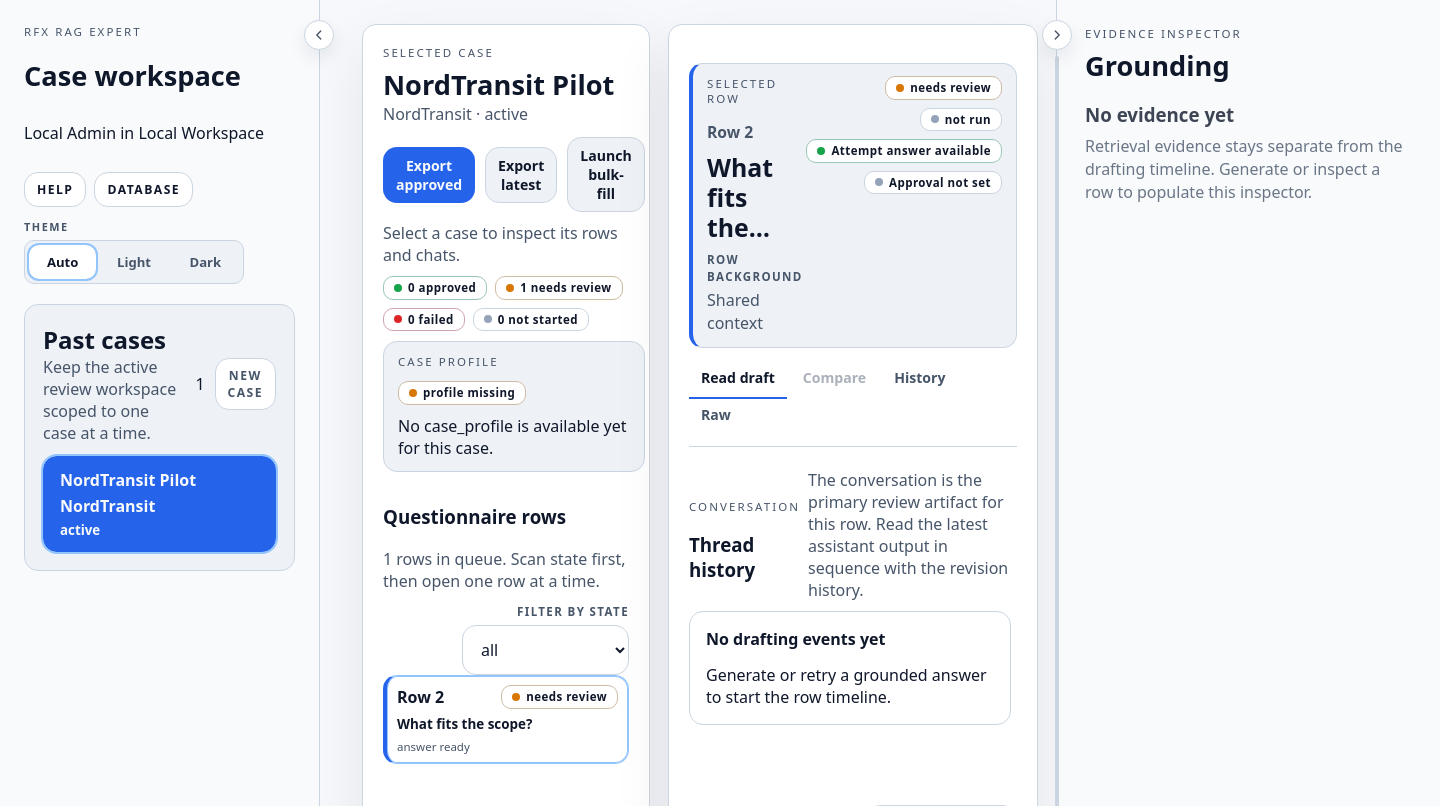
Test: App › shows raw planning and rendering traces and lets reviewers switch to the latest attempt scope
Expected: the heading "Questionnaire rows" is shown, [383,504,566,529]
Click the button "Raw" at [716, 418], box [689,399,743,436]
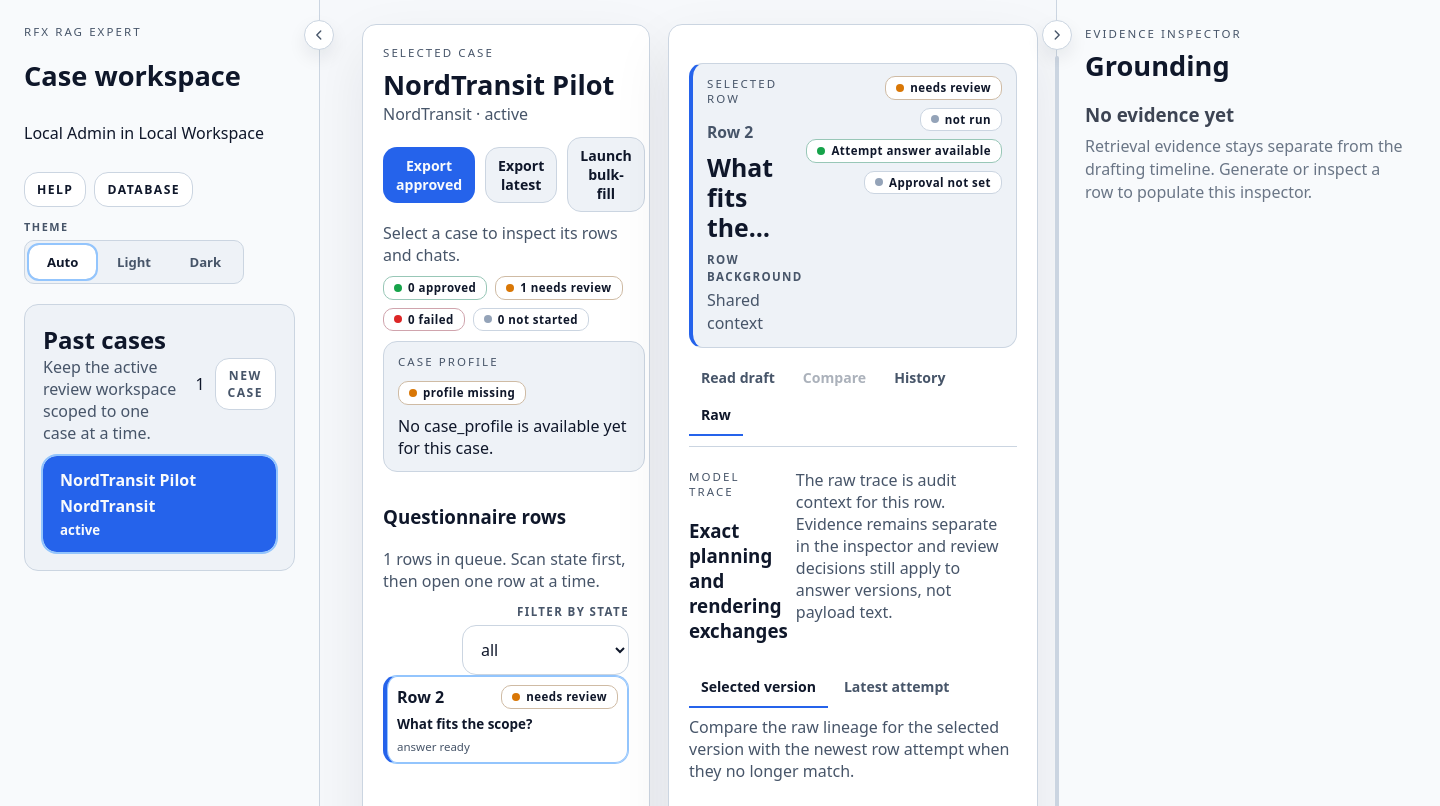
Result: the button "Selected version" is shown at [689,672,828,708]
Click the button "Latest attempt" at [897, 690], box [832,672,961,708]
(page scrolled)
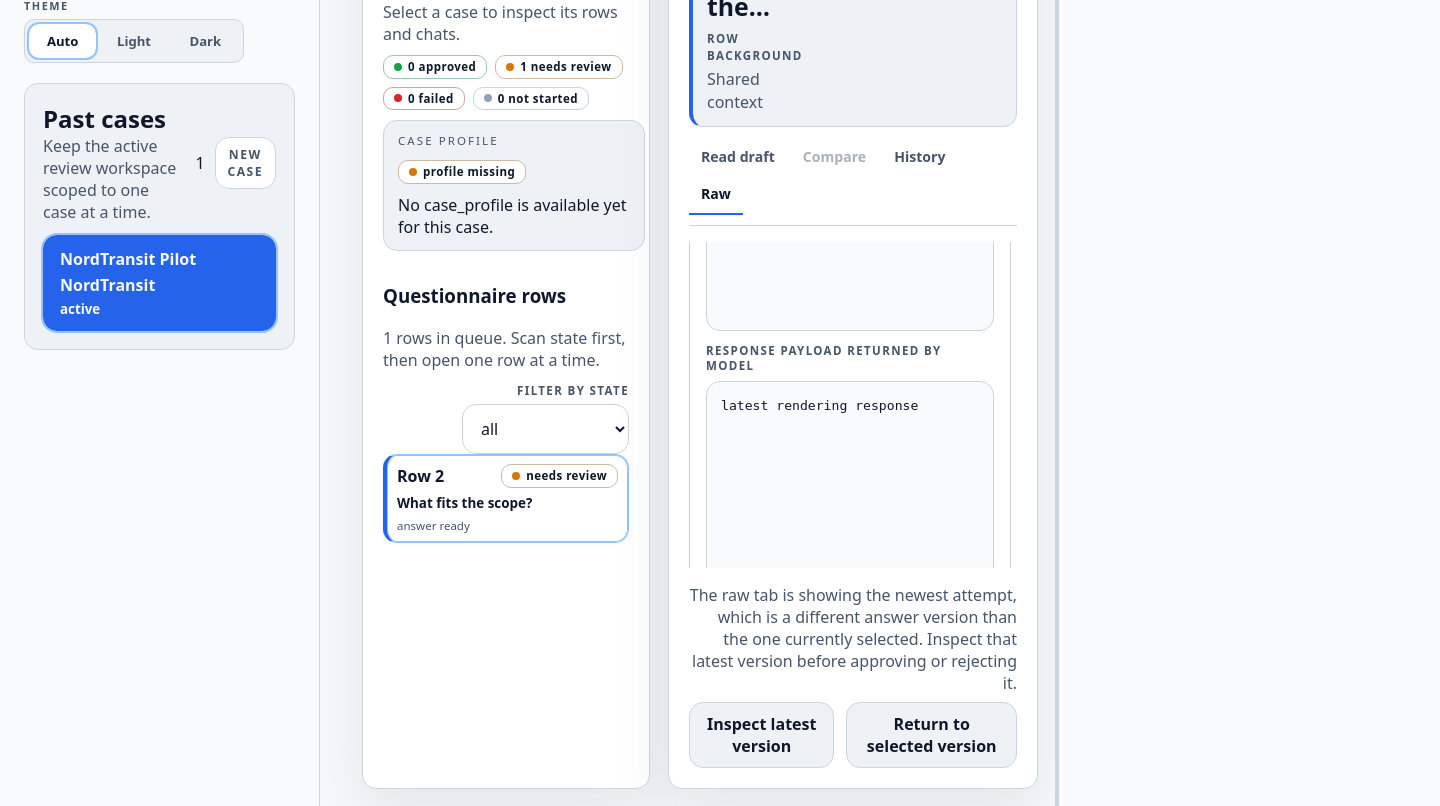
Result: the text "latest rendering response" is shown at [721,398,918,412]
